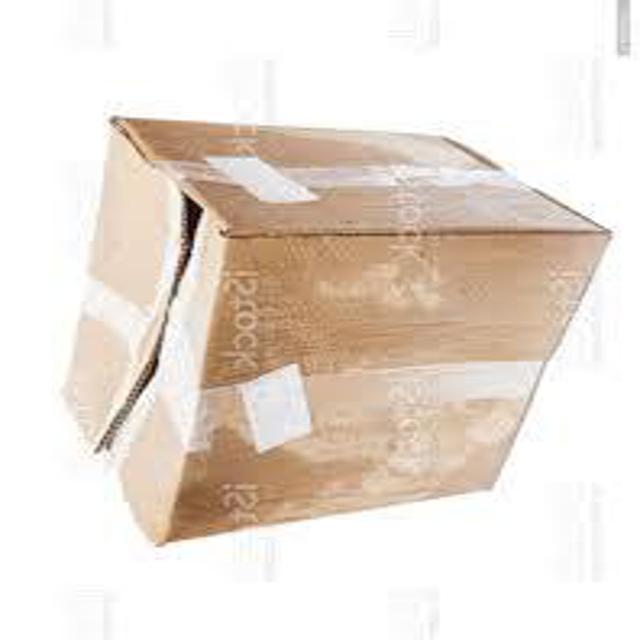Kardus kondisi rusak: (51, 119, 615, 547)
